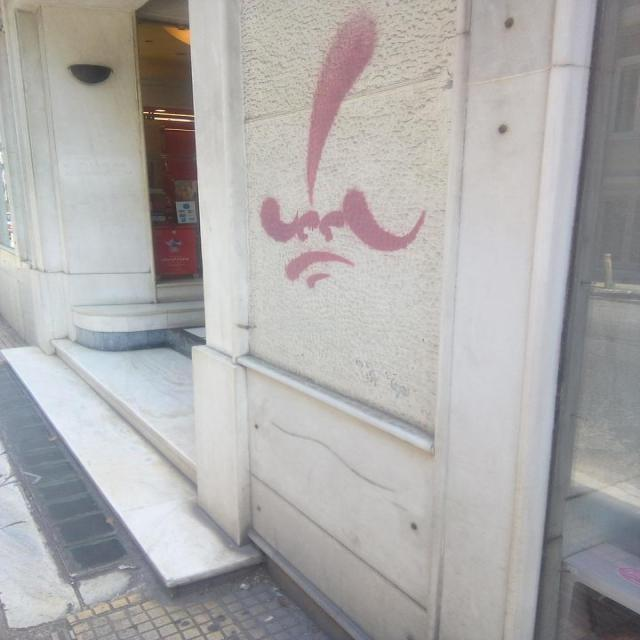nonspitting: (256, 13, 429, 290)
